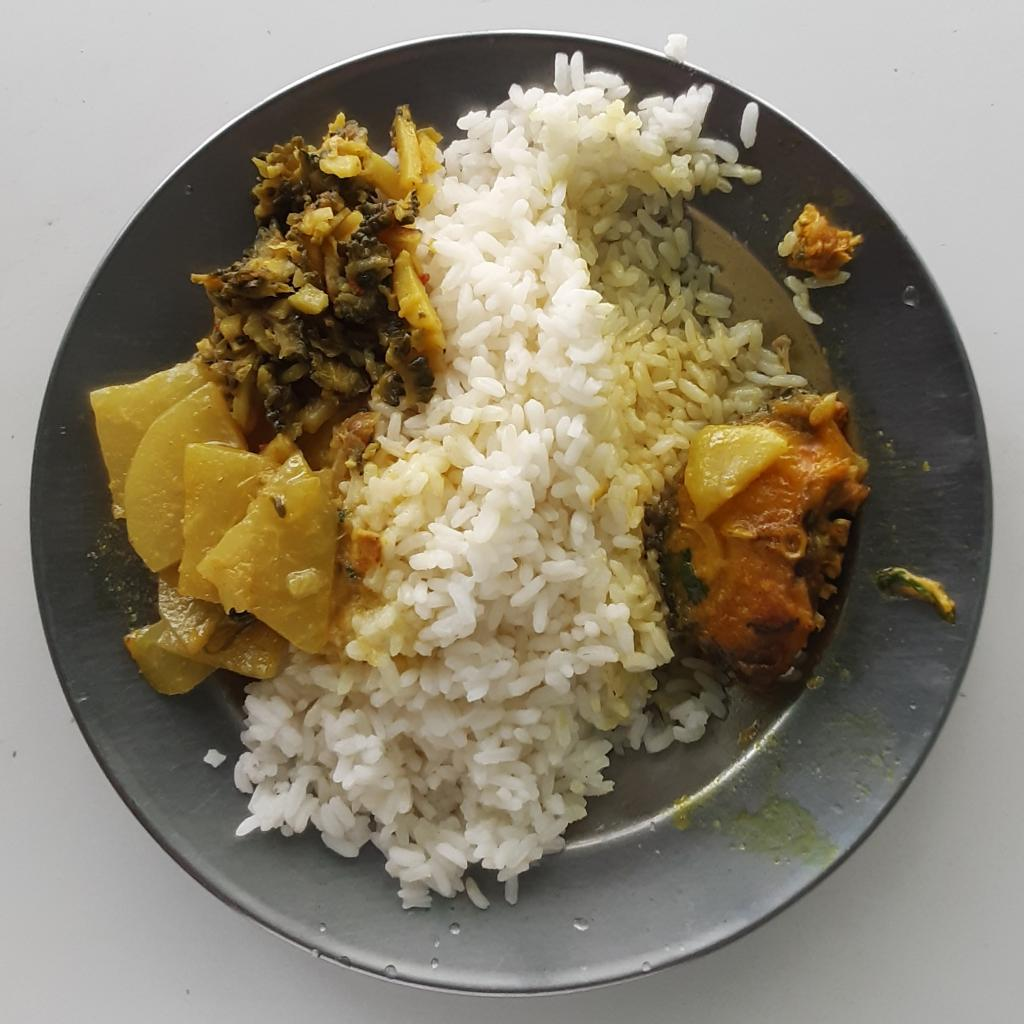fish: (653, 388, 872, 687)
korola-vaji: (194, 96, 452, 482)
papaya: (85, 353, 341, 701)
rice: (232, 48, 804, 921)
